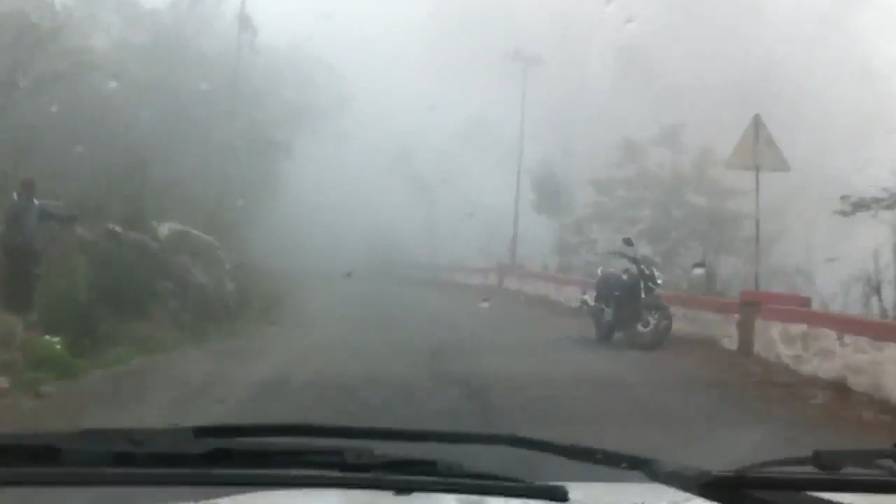motorbike: (580, 235, 675, 350)
